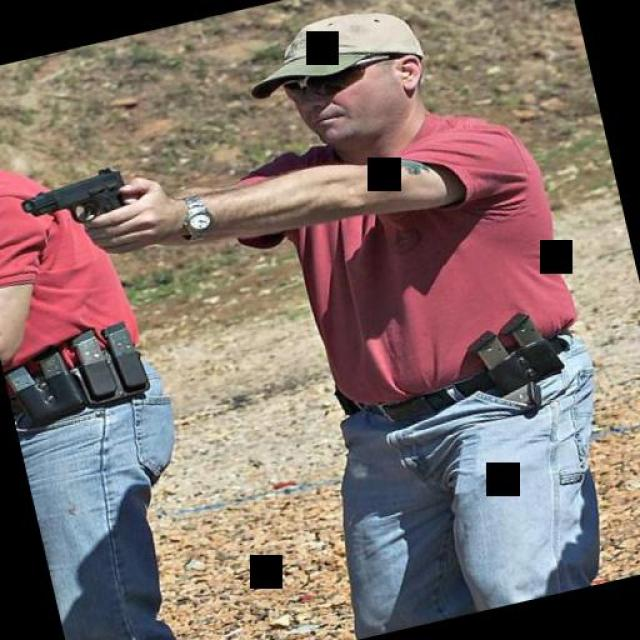gun: (9, 154, 139, 246)
